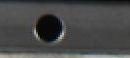holes: (31, 12, 68, 45)
